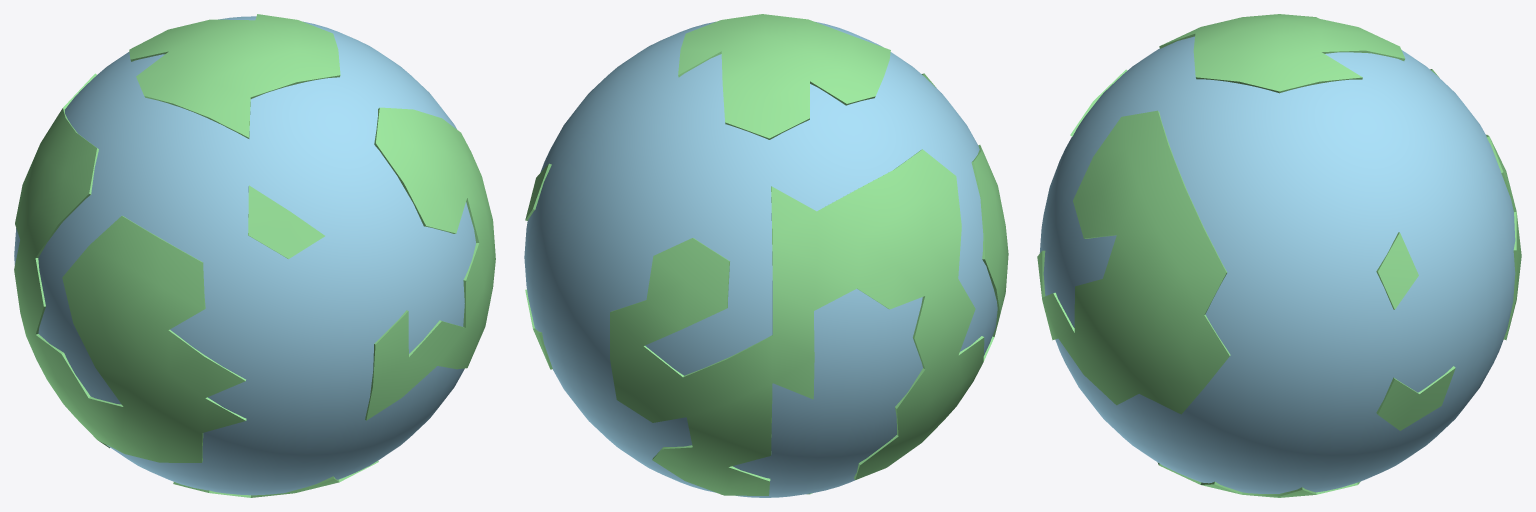
The model's file is monde.gltf.
The picture shows the model from 3 angles, left to right: view 1: azimuth 30°, elevation 25°; view 2: azimuth 150°, elevation 25°; view 3: azimuth 270°, elevation 25°; orthographic projection.
Visible parts, largest first — view 1: Sphère.1, Sphère; view 2: Sphère.1, Sphère; view 3: Sphère.1, Sphère.
Part boxes in pixels (left/top/right/bottom): Sphère.1: left=14, top=16, right=475, bottom=495; Sphère: left=14, top=14, right=495, bottom=497; Sphère.1: left=524, top=21, right=997, bottom=497; Sphère: left=525, top=14, right=1008, bottom=495; Sphère.1: left=1039, top=36, right=1515, bottom=493; Sphère: left=1037, top=14, right=1521, bottom=497.
Bounding box in the file's own units: 324 × 326 × 326.
